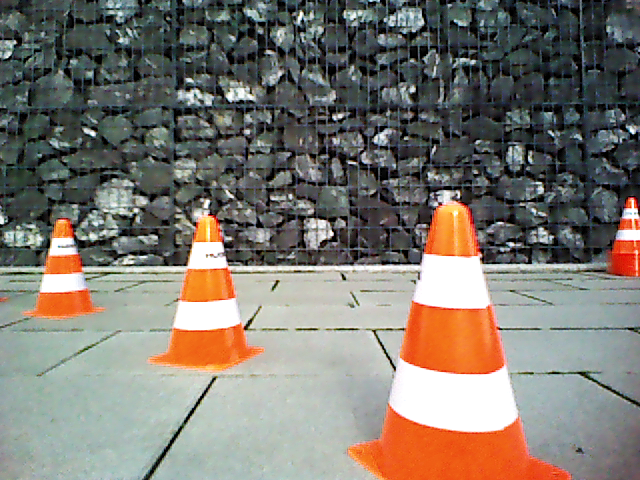orangeconesmall: (379, 202, 534, 478), (166, 216, 249, 359), (35, 217, 93, 314)
